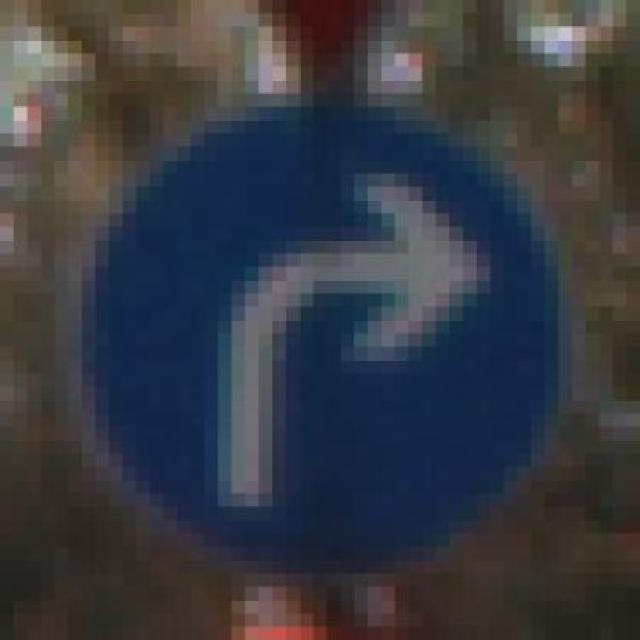Turn right ahead: (72, 66, 590, 574)
